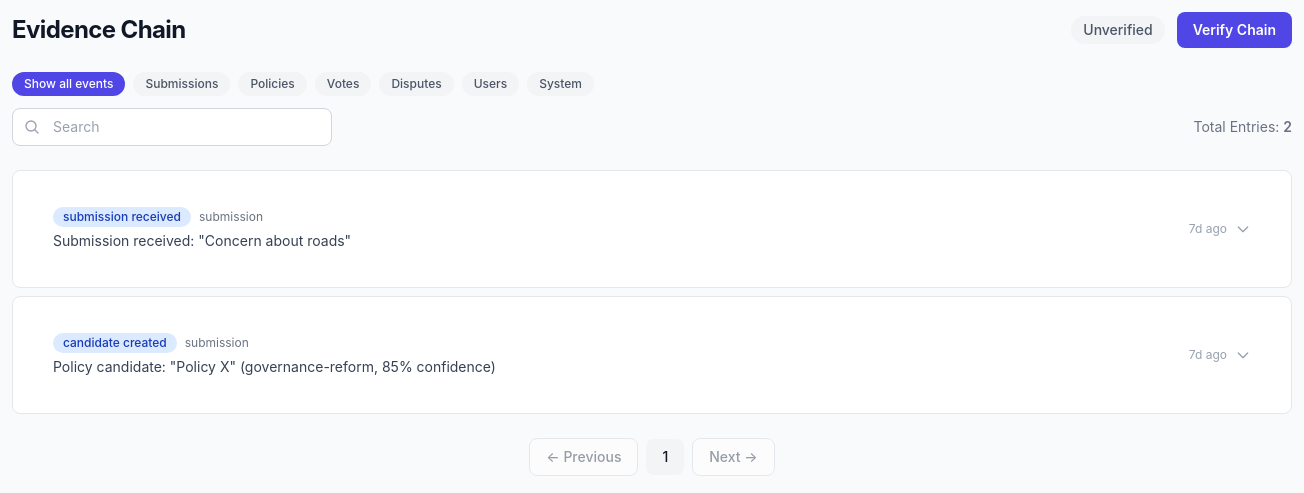
Test: EvidencePage › filters entries by search term on event description
Expected: the text "Submission received: \"Concern about roads\"" is shown, top-left (53, 232), bottom-right (351, 249)
In the field labelled "Search": [172, 127] box top-left (12, 108), bottom-right (332, 146), type "Policy X"
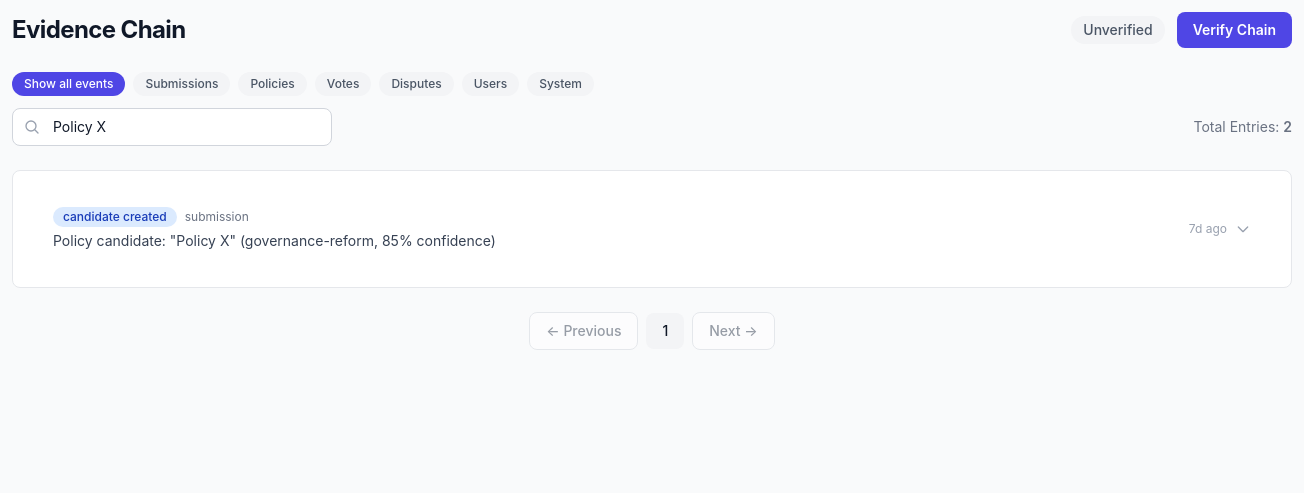
Expected: the text "Policy X" is shown, top-left (53, 232), bottom-right (496, 249)
Expected: the button "Concern about roads" is gone
